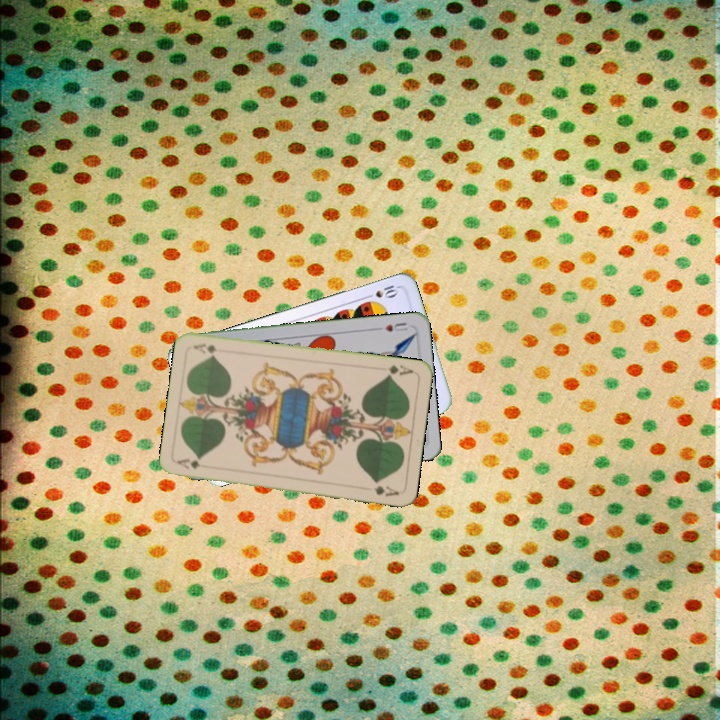GA: (173, 454, 214, 471), (383, 361, 416, 379)
HU: (373, 318, 410, 334)
S10: (361, 281, 401, 301)
